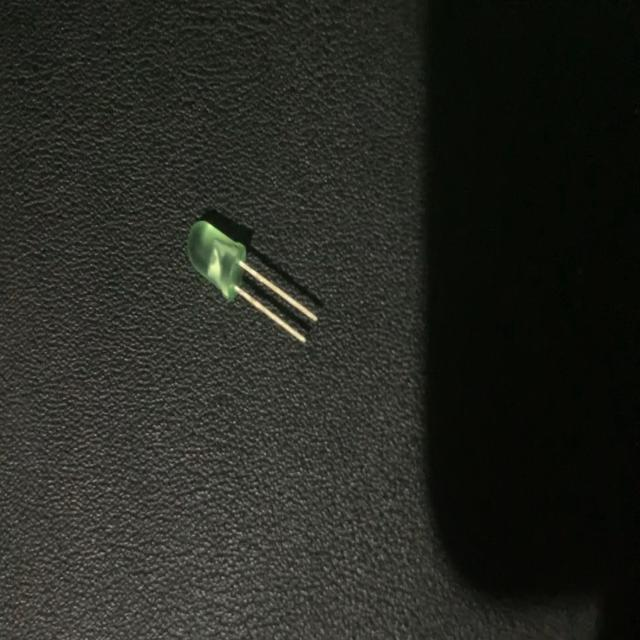LED: (182, 212, 318, 348)
